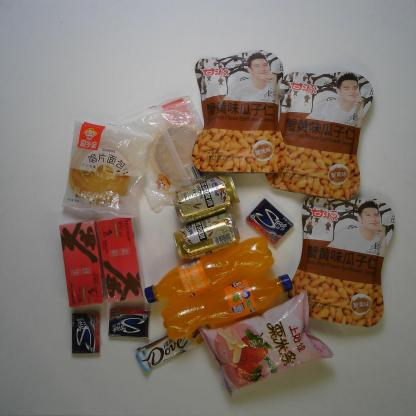Alcohol: (171, 171, 242, 227), (170, 212, 242, 264)
Chocolate: (134, 314, 215, 377)
Dessert: (118, 93, 237, 213), (55, 111, 166, 223)
Dried Fruit: (287, 192, 402, 328), (261, 68, 376, 202), (187, 48, 289, 174)
Drink: (162, 272, 297, 342), (144, 236, 278, 303)
Gum: (244, 196, 294, 248), (105, 306, 154, 341), (69, 311, 102, 355)
Instant Drink: (93, 213, 144, 304), (58, 217, 104, 309)
Puffed Food: (198, 288, 336, 398)
